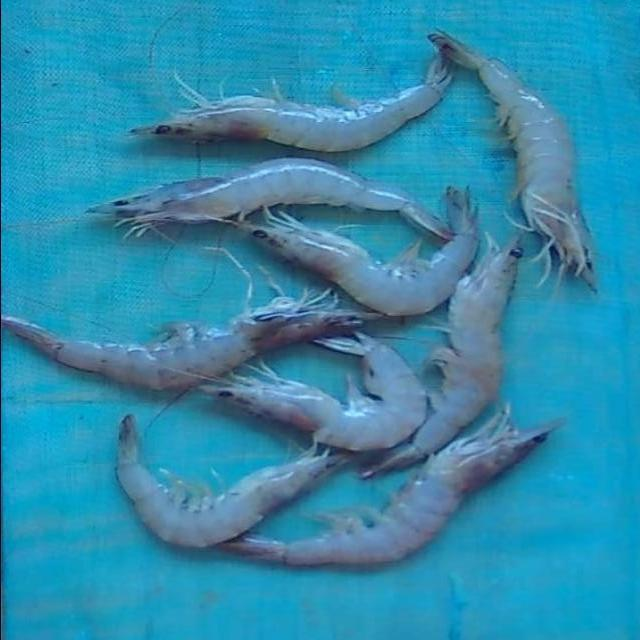shrimp: (221, 412, 558, 565), (429, 30, 593, 284), (360, 236, 521, 478), (0, 293, 379, 390), (222, 188, 478, 315), (130, 53, 451, 150), (116, 416, 348, 548), (86, 157, 452, 240), (199, 332, 427, 451)
